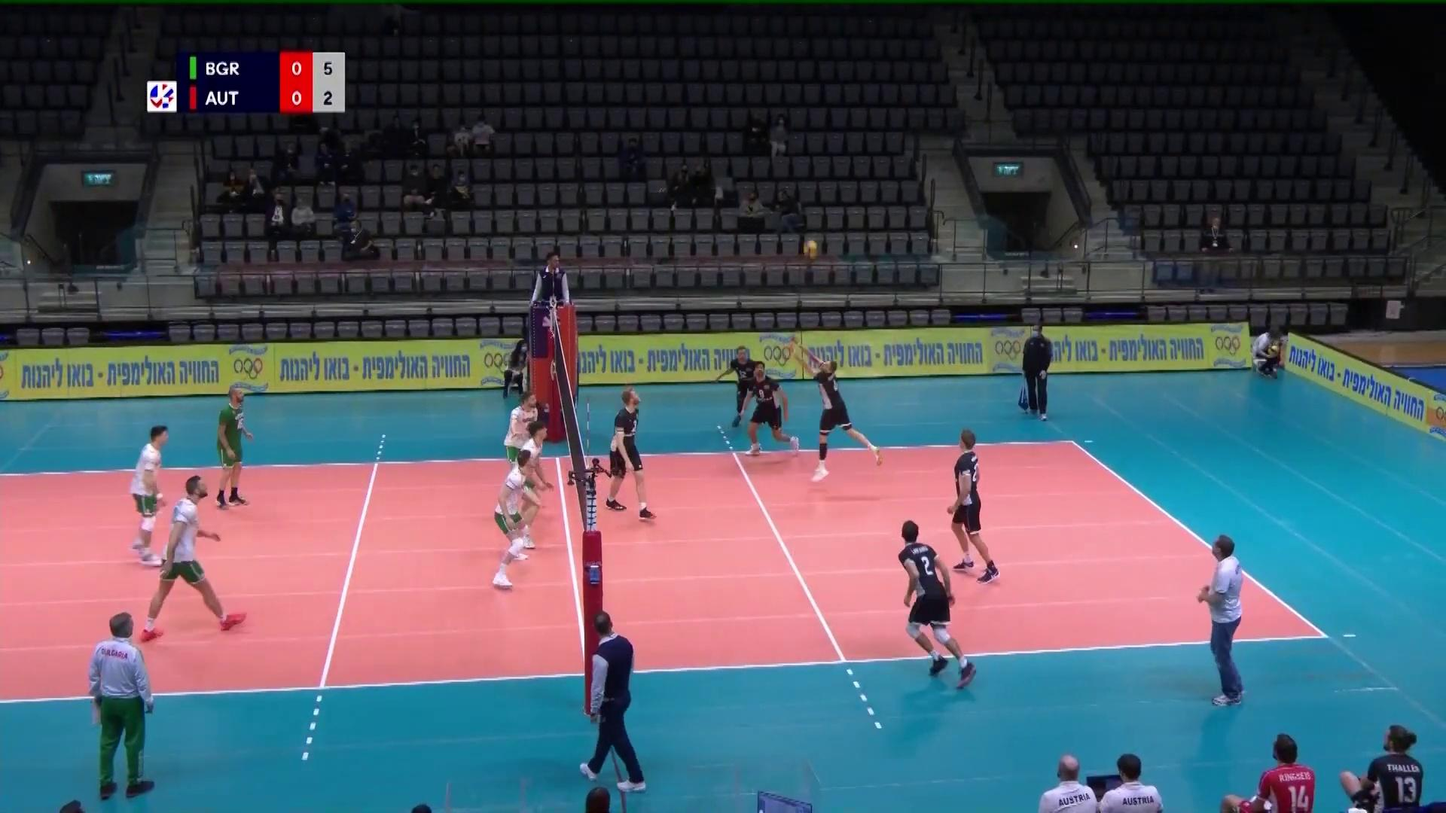ball: (803, 239, 820, 260)
